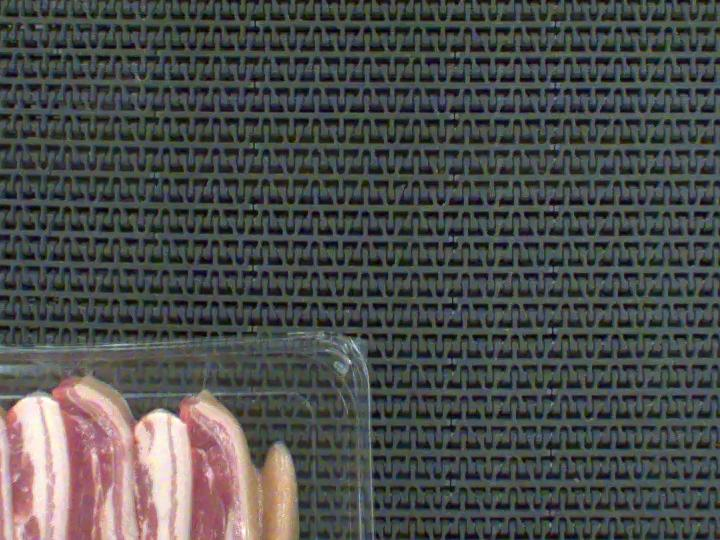packaging-error: (8, 328, 240, 404)
